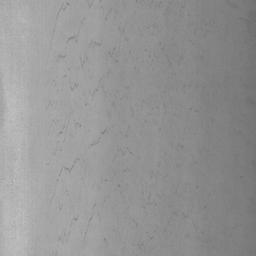Silk spot: (56, 2, 70, 20), (58, 165, 74, 176), (66, 35, 78, 43)
